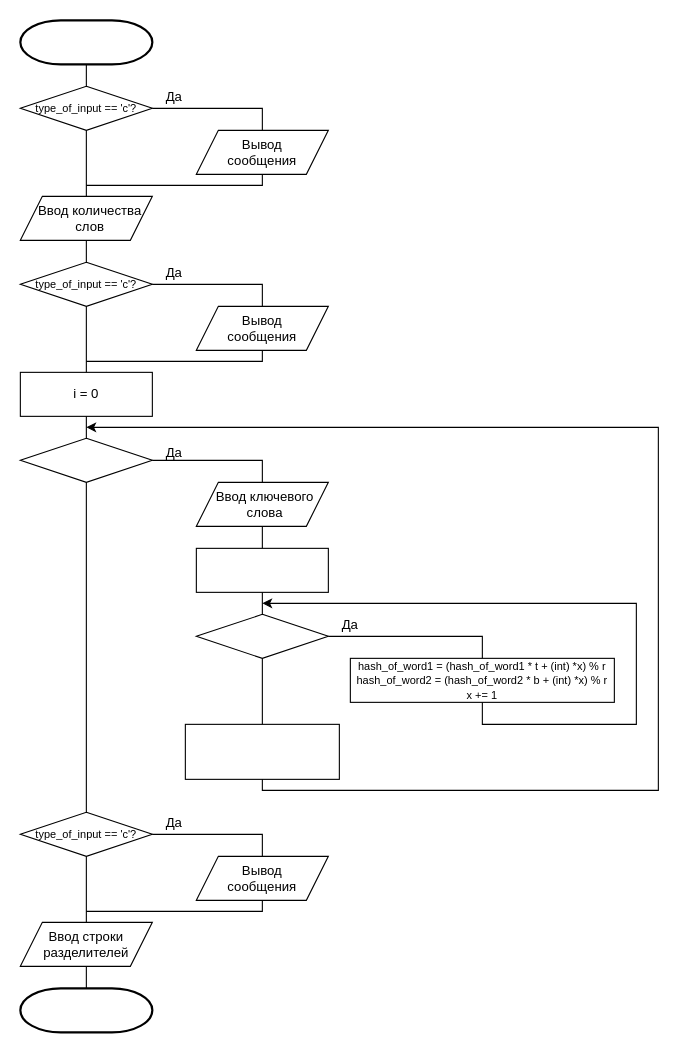
The diagram is 686 pixels wide and 1052 high, and some of its shapes have lost their labels. The shapes that lost their labels are listed below. From the top down, each one's centre as x and y in pixels, then its label:
At [86,42]: "A02 Начало".
At [85,459]: "i < cnt_of_keywords?".
At [261,569]: "x = keyword hash_of_word1 = 0 hash_of_word2 = 0".
At [261,635]: "*x != '\0'?".
At [261,751]: "keysh[i][0] = hash_of_word1 keysh[i][1] = hash_of_word2 keysh[i][2] = 0 i += 1".
At [86,1010]: "A02 Конец".
